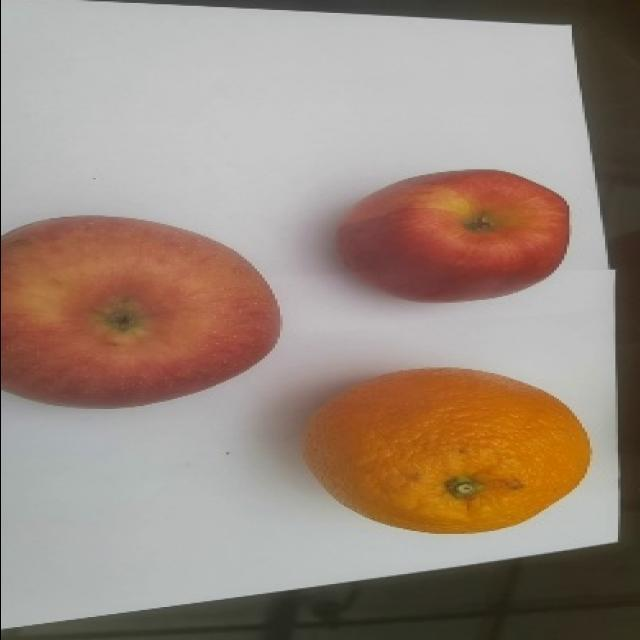Apple: (0, 214, 281, 408), (335, 168, 570, 302)
Orange: (302, 365, 591, 534)
